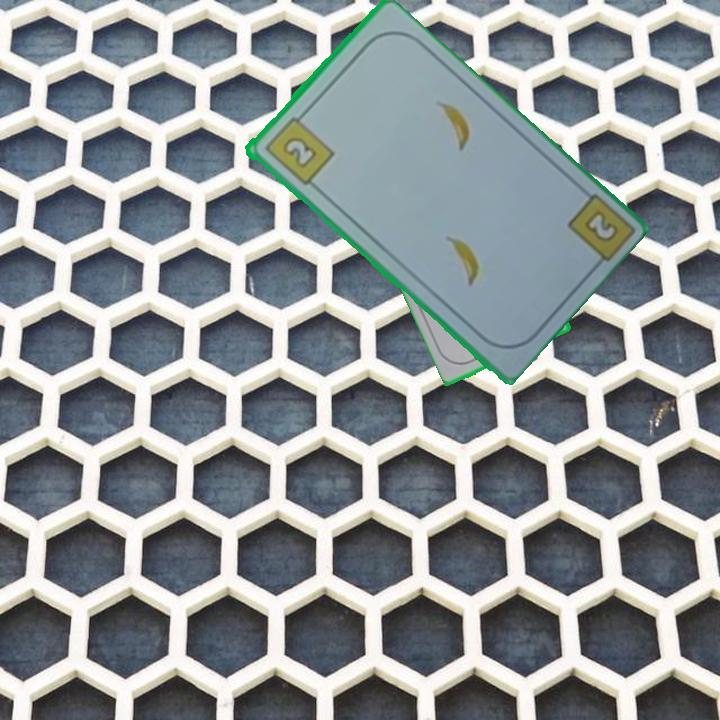2b: (260, 108, 336, 188), (562, 189, 634, 273)
